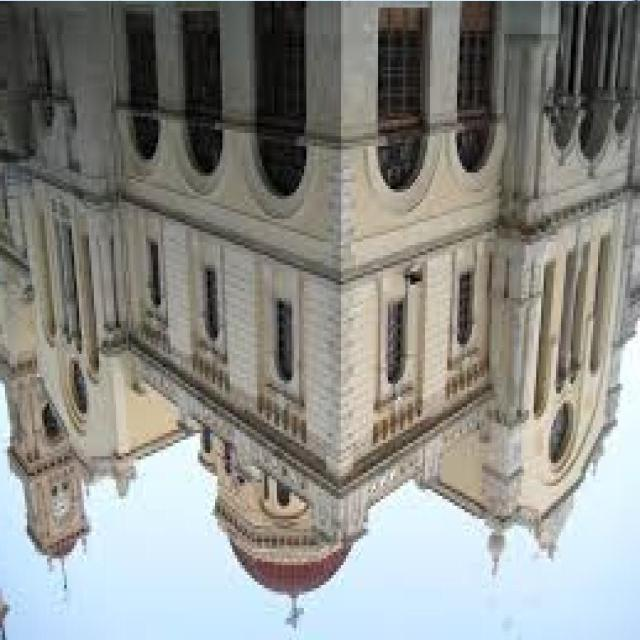Agios Minas: (1, 2, 640, 640)
